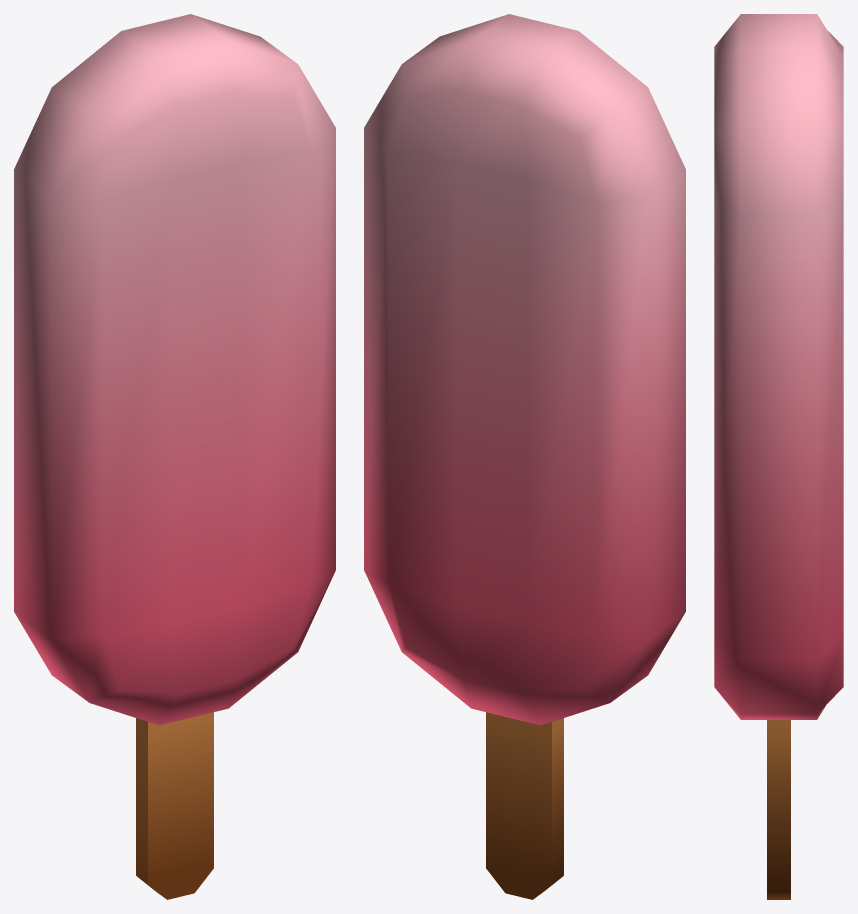
The model's file is m_Popsicle01.fbx.
3 views of the same model, side by side, from view 1: azimuth 30°, elevation 25°; view 2: azimuth 150°, elevation 25°; view 3: azimuth 270°, elevation 25° (orthographic).
Parts seen in each view (by area): view 1: m_Popsicle01; view 2: m_Popsicle01; view 3: m_Popsicle01.
Part boxes in pixels (x1,y1,x2,y2): m_Popsicle01: (14, 14, 335, 899); m_Popsicle01: (364, 14, 685, 899); m_Popsicle01: (714, 14, 843, 899).
Size of the model in its own units: 7.98 by 22.99 by 3.12.
